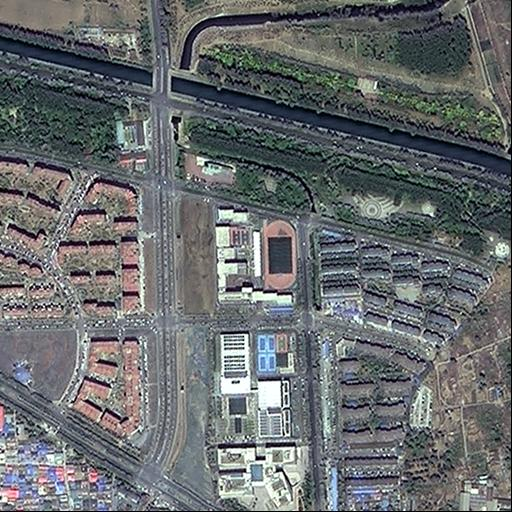school: (214, 206, 300, 311)
